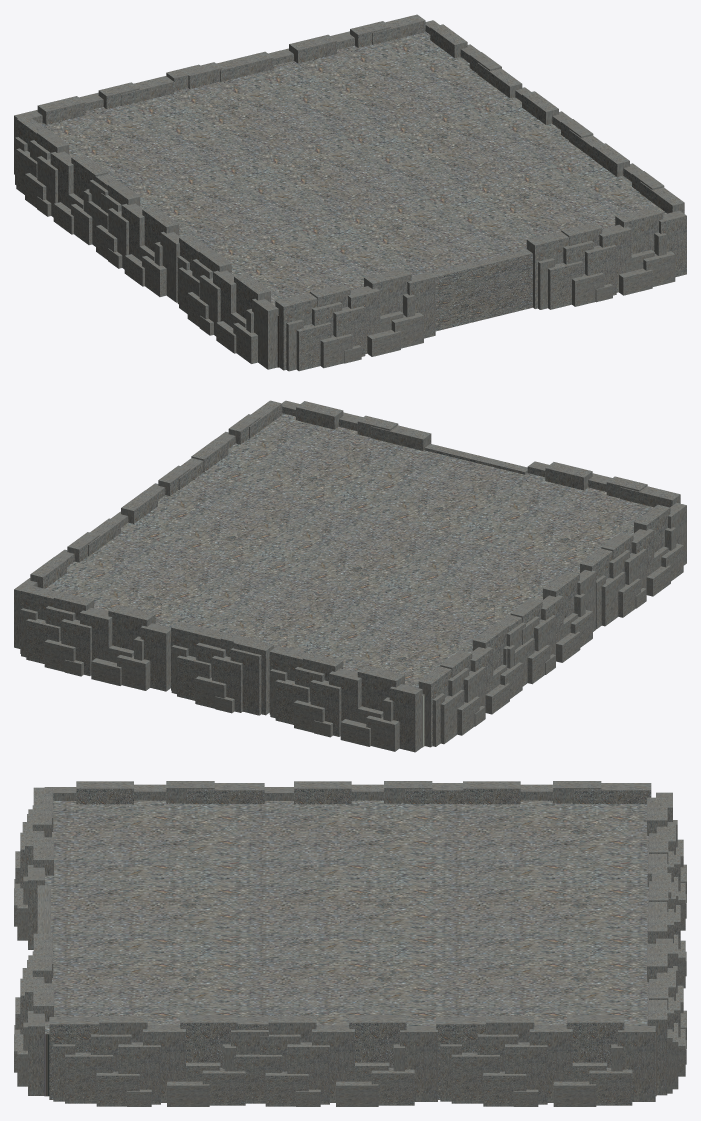
The model's file is stage1_boss.FBX.
3 views of the same model, one above another, from view 1: azimuth 30°, elevation 25°; view 2: azimuth 150°, elevation 25°; view 3: azimuth 270°, elevation 25° (orthographic). The views are drawn at different scales.
Visible parts, largest first — view 1: Box4754, Box6984, Box474, Box458, Box6985, Box6987, Box6988, Box6990, Box459, Box456, Box461, Box6994 (+43 smaller); view 2: Box4754, Box7003, Box7018, Box7034, Box7002, Box7017, Box7061, Box7030, Box7004, Box7009, Box7039, Box7024 (+49 smaller); view 3: Box4754, Box7079, Box7078, Box7094, Box7093, Box7108, Box7081, Box7111, Box7080, Box7110, Box7095, Box7085 (+51 smaller).
Part boxes in pixels (x1,y1,x2,y2): Box4754: (39,32,666,367); Box6984: (430,249,532,331); Box474: (252,298,278,369); Box458: (615,206,663,254); Box6985: (275,292,317,370); Box6987: (364,268,411,315); Box6988: (407,272,435,338); Box6990: (296,322,331,371); Box459: (659,210,686,277); Box456: (526,231,568,308); Box461: (548,261,583,309); Box6994: (333,306,365,356); Box4754: (45,413,653,747); Box7003: (389,684,422,752); Box7018: (140,623,170,691); Box7034: (230,648,261,715); Box7002: (357,665,404,711); Box7017: (108,604,155,650); Box7061: (418,666,451,747); Box7030: (171,621,227,690); Box7004: (329,668,361,721); Box7009: (310,680,341,736); Box7039: (212,656,242,712); Box7024: (61,619,91,675); Box4754: (44,800,656,1096); Box7079: (617,1026,655,1101); Box7078: (566,1015,624,1067); Box7094: (400,1026,437,1101); Box7093: (349,1015,406,1067); Box7108: (180,1015,237,1067); Box7081: (451,1052,499,1103); Box7111: (65,1052,113,1103); Box7080: (529,1025,572,1102); Box7110: (143,1025,185,1102); Box7095: (312,1025,354,1102); Box7085: (505,1042,547,1104).
Bounding box in the file's own units: 1402 × 1562 × 199.
